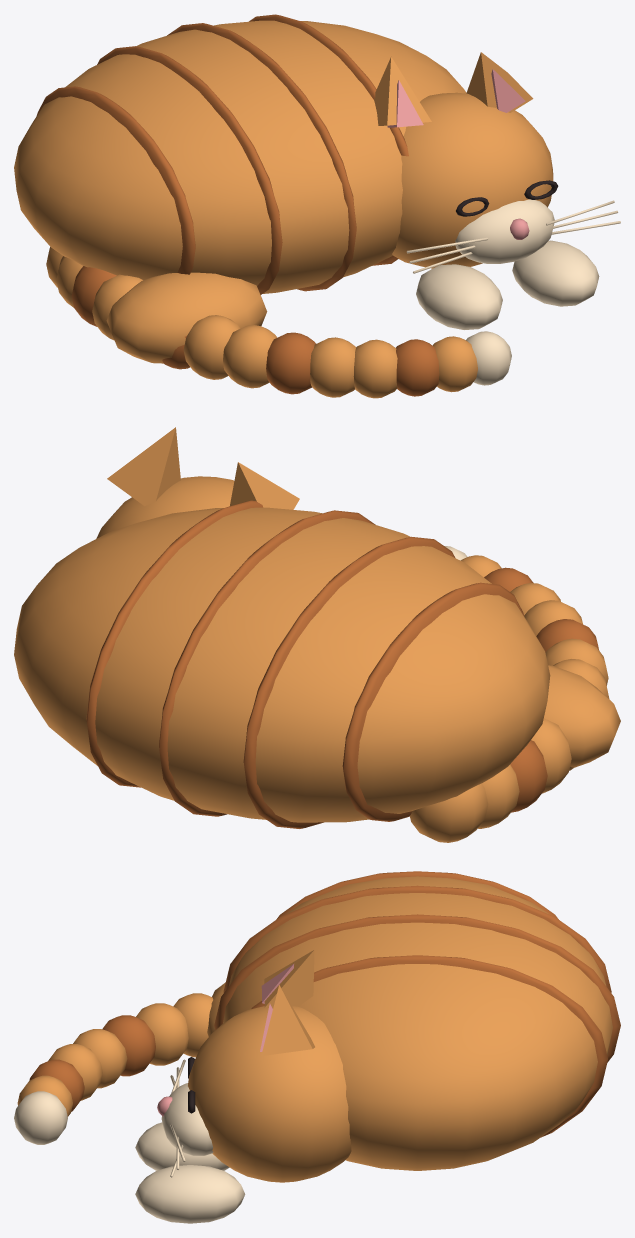
File: cat.glb
The picture shows the model from 3 angles, top to bottom: view 1: azimuth 30°, elevation 25°; view 2: azimuth 150°, elevation 25°; view 3: azimuth 270°, elevation 25°; orthographic projection. The views are drawn at different scales.
Visible parts, largest first — view 1: torso, head, hind, paw--1, muzzle, paw-1, stripe-1, stripe-0, stripe-2, tail-7, tail-8, tail-6 (+13 smaller); view 2: torso, stripe-0, stripe-1, hind, stripe-2, stripe-3, head, ear-1, tail-0, ear--1, tail-3, tail-2 (+7 smaller); view 3: torso, head, paw-1, stripe-2, stripe-3, stripe-1, tail-13, muzzle, tail-7, ear-1, tail-8, paw--1 (+7 smaller).
Boxes of the visible parts, left/top/right/bottom form: torso: left=14, top=20, right=466, bottom=293; head: left=392, top=92, right=553, bottom=268; hind: left=106, top=272, right=267, bottom=363; paw--1: left=416, top=264, right=502, bottom=329; muzzle: left=455, top=199, right=554, bottom=263; paw-1: left=512, top=240, right=599, bottom=306; stripe-1: left=97, top=46, right=282, bottom=294; stripe-0: left=36, top=86, right=195, bottom=274; stripe-2: left=167, top=23, right=356, bottom=291; tail-7: left=223, top=325, right=277, bottom=388; tail-8: left=266, top=332, right=315, bottom=394; tail-6: left=183, top=315, right=240, bottom=379; torso: left=14, top=507, right=550, bottom=822; stripe-0: left=342, top=582, right=524, bottom=821; stripe-1: left=243, top=536, right=455, bottom=828; hind: left=544, top=665, right=620, bottom=767; stripe-2: left=159, top=510, right=375, bottom=816; stripe-3: left=86, top=500, right=263, bottom=787; head: left=96, top=476, right=234, bottom=538; ear-1: left=107, top=427, right=180, bottom=506; tail-0: left=410, top=783, right=488, bottom=842; ear--1: left=230, top=462, right=299, bottom=509; tail-3: left=531, top=718, right=571, bottom=793; tail-2: left=510, top=740, right=547, bottom=812; torso: left=223, top=876, right=612, bottom=1170; head: left=188, top=1006, right=351, bottom=1182; paw-1: left=135, top=1165, right=245, bottom=1223; stripe-2: left=214, top=914, right=620, bottom=1062; stripe-3: left=251, top=955, right=607, bottom=1137; stripe-1: left=223, top=885, right=611, bottom=992; tail-13: left=14, top=1091, right=67, bottom=1144; muzzle: left=161, top=1083, right=213, bottom=1155; tail-7: left=136, top=1003, right=188, bottom=1065; ear-1: left=261, top=985, right=314, bottom=1055; tail-8: left=102, top=1015, right=155, bottom=1076; paw--1: left=135, top=1122, right=229, bottom=1170.
Size of the model in its own units: 4.32 by 2.05 by 4.94.
